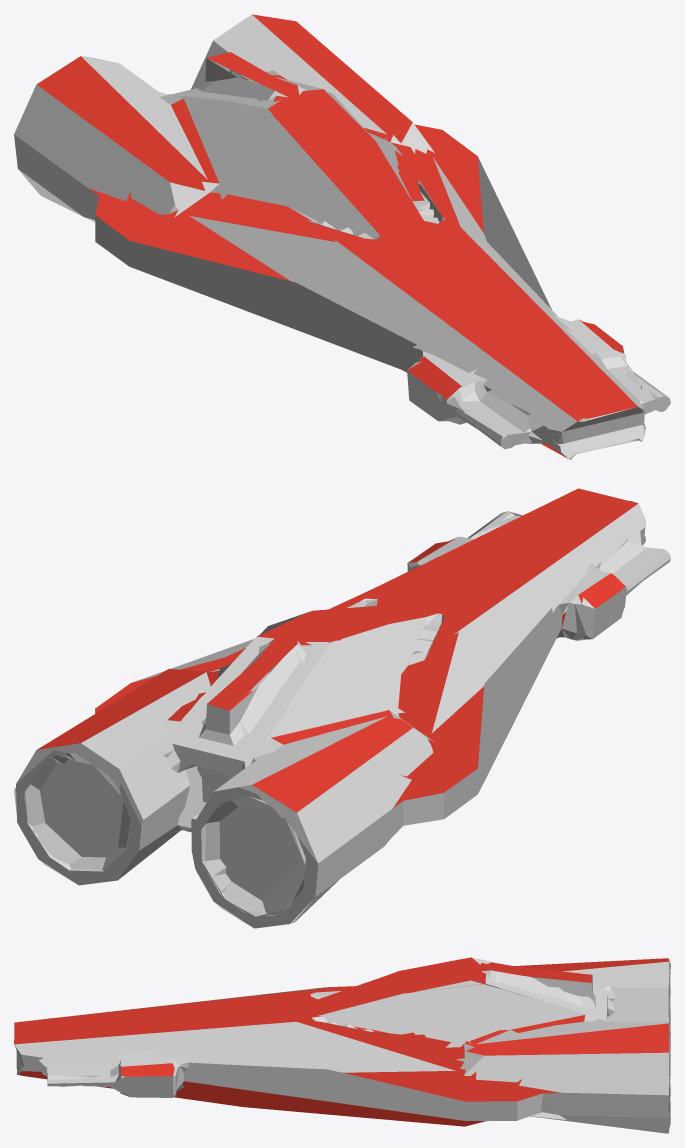
Rendered from raider_t1.glb.
3 views of the same model, one above another, from view 1: azimuth 30°, elevation 25°; view 2: azimuth 150°, elevation 25°; view 3: azimuth 270°, elevation 25° (orthographic). The views are drawn at different scales.
Visible parts, largest first — view 1: Starfighter; view 2: Starfighter; view 3: Starfighter.
Boxes of the visible parts, x1=… form: Starfighter: x1=14, y1=14, x2=670, y2=459; Starfighter: x1=14, y1=488, x2=670, y2=928; Starfighter: x1=14, y1=957, x2=670, y2=1133.
Size of the model in its own units: 18.66 by 9.96 by 41.1.
